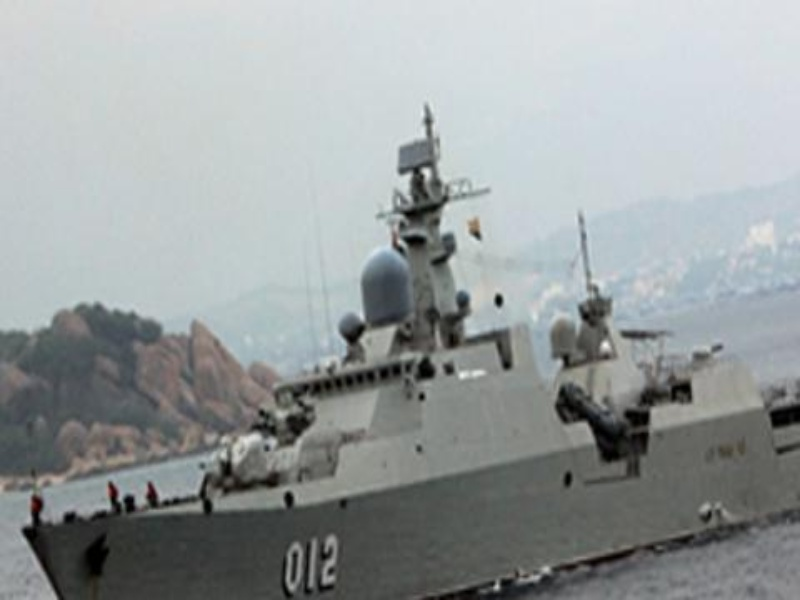cruise: (36, 231, 793, 588)
